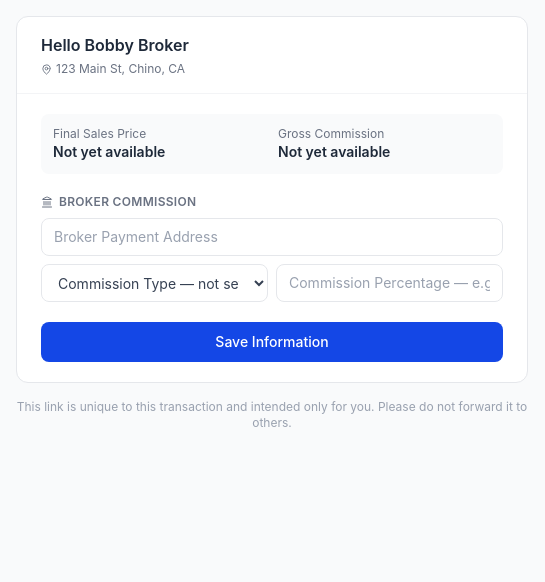
Test case: BrokerUploadPage › saves the broker payment address and commission split, then displays the calculated result
Type "456 Broker Blvd" into the field with placeholder "Broker Payment Address" at coordinates (272, 237), box [41, 218, 503, 256]
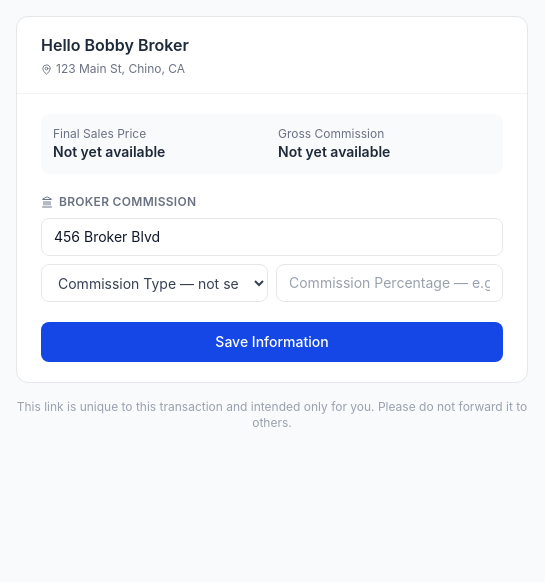
Select "Percentage" in the dropdown showing "Commission Type — not set" at coordinates (154, 283), box [41, 264, 268, 302]
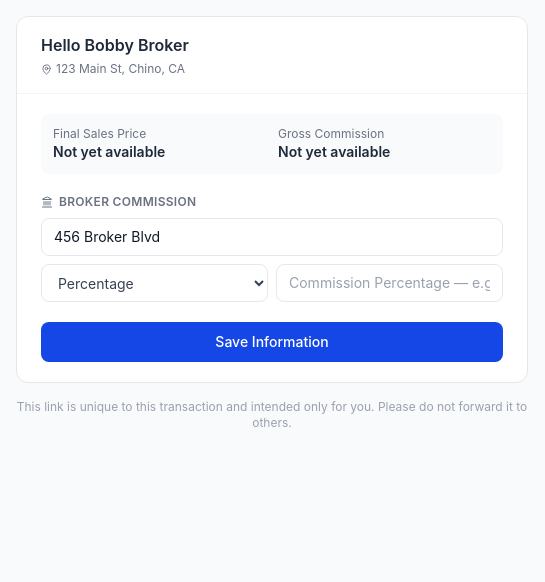
Type "10" into the field with placeholder "Commission Percentage — e.g. 10" at coordinates (390, 283), box [276, 264, 503, 302]
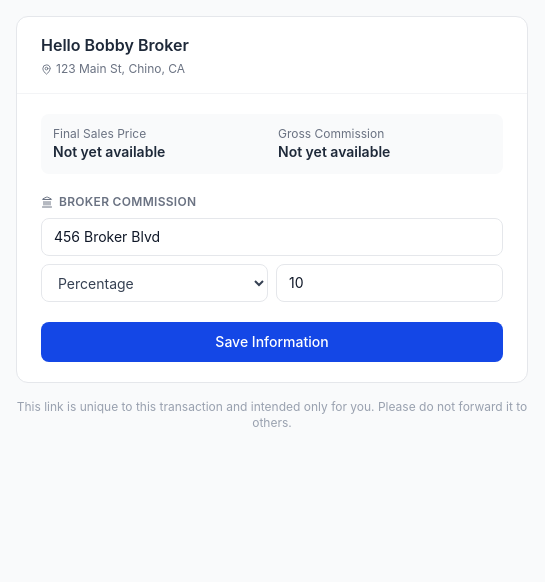
Click the button "Save Information" at coordinates (272, 342), box [41, 322, 503, 362]
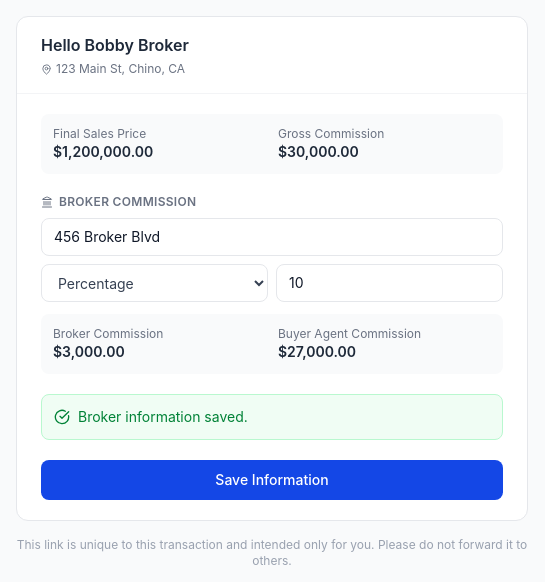
Result: the text "Broker information saved." is shown at [41, 394, 503, 440]
Result: the text "$3,000.00" is shown at [53, 343, 125, 360]
Result: the text "$27,000.00" is shown at [278, 343, 356, 360]
